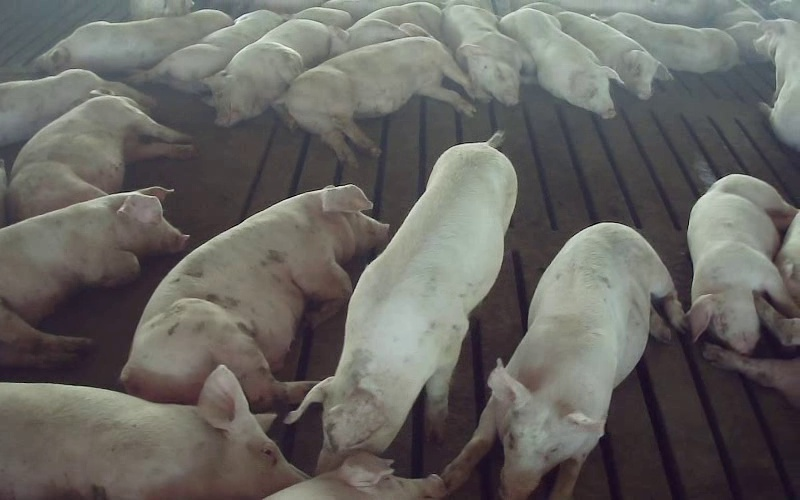pig: (442, 223, 685, 499), (121, 185, 388, 410), (0, 365, 306, 499), (0, 188, 187, 367), (274, 37, 474, 165), (8, 89, 196, 221), (687, 174, 799, 353), (205, 7, 351, 126), (499, 7, 620, 118), (33, 10, 232, 74), (131, 10, 284, 92), (0, 69, 154, 146), (555, 11, 671, 99), (604, 12, 738, 73), (442, 5, 521, 105), (329, 2, 441, 57), (754, 19, 799, 150)
